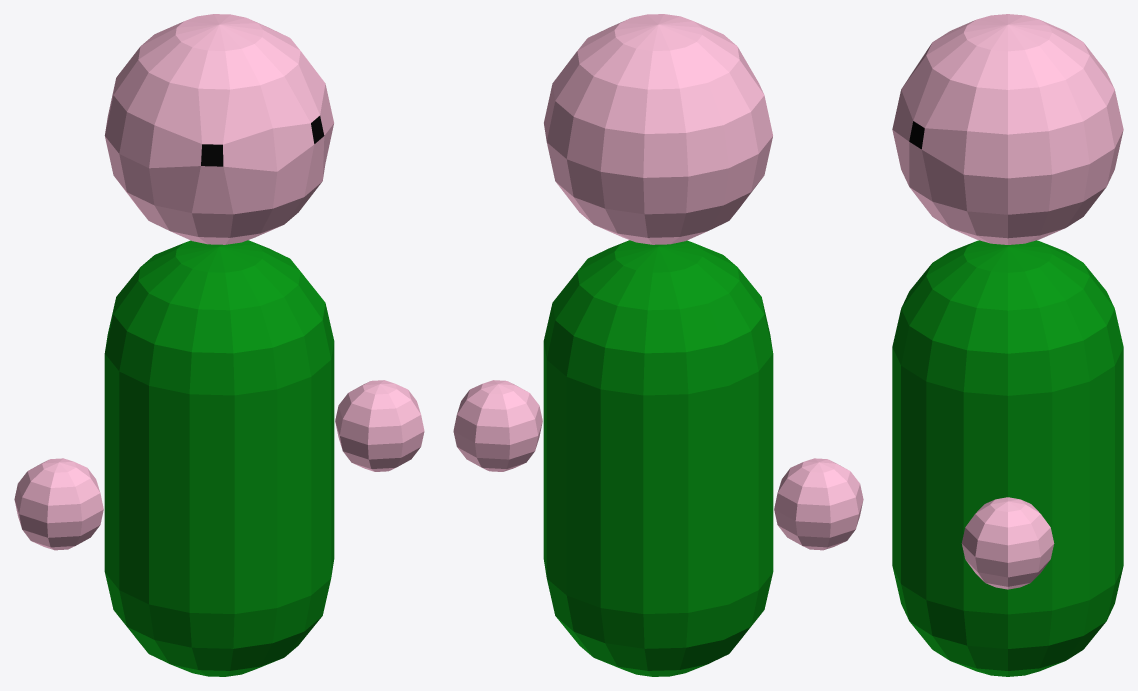
File: Player_Model.fbx
3 renders of one model, left to right at view 1: azimuth 30°, elevation 25°; view 2: azimuth 150°, elevation 25°; view 3: azimuth 270°, elevation 25°, orthographic.
Parts seen in each view (by area): view 1: Enemy; view 2: Enemy; view 3: Enemy.
Boxes of the visible parts, <box> form: Enemy: <box>14,14,424,676</box>; Enemy: <box>453,14,863,676</box>; Enemy: <box>892,14,1123,676</box>.
Size of the model in its own units: 1.25 by 1.91 by 0.625.
